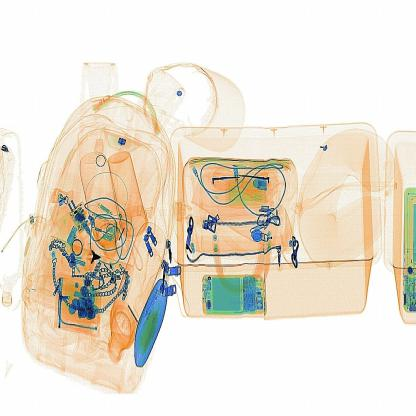gun: (82, 240, 106, 275)
